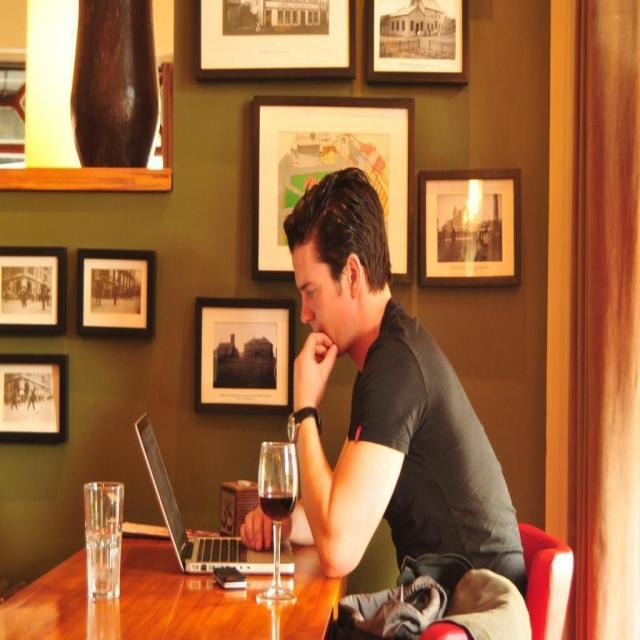glass-normal: (81, 478, 126, 604)
glass-wine: (256, 439, 301, 600)
